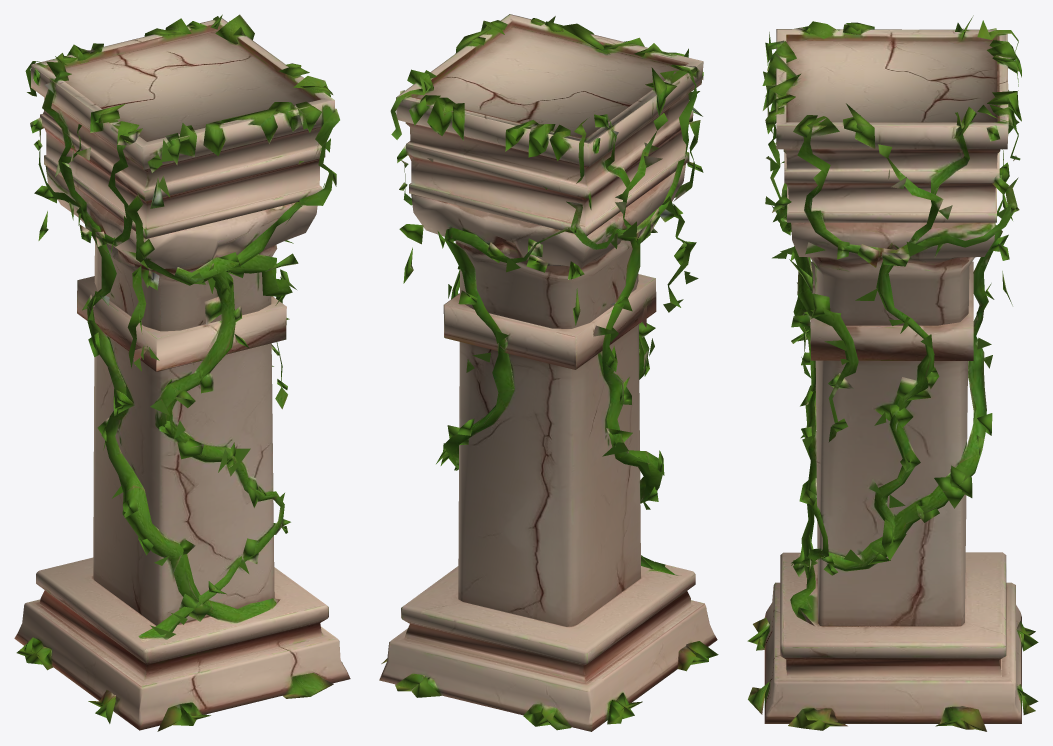
The model's file is vinePillar.glb.
The picture shows the model from 3 angles, left to right: view 1: azimuth 30°, elevation 25°; view 2: azimuth 150°, elevation 25°; view 3: azimuth 270°, elevation 25°; orthographic projection. The views are drawn at different scales.
Bounding box in the file's own units: 0.4151 × 0.9526 × 0.4126.
Materials: 1 (1 with a texture image).
